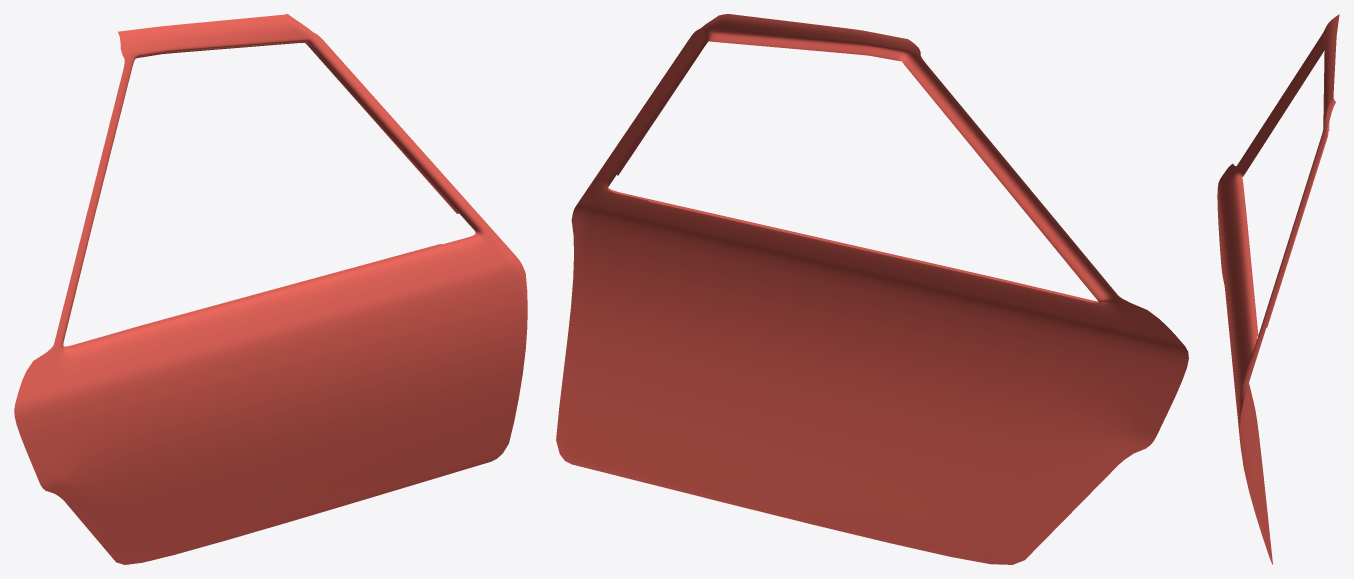
Rendered from cube.038_material.014_0_lev1.glb.
The picture shows the model from 3 angles, left to right: view 1: azimuth 30°, elevation 25°; view 2: azimuth 150°, elevation 25°; view 3: azimuth 270°, elevation 25°; orthographic projection. The views are drawn at different scales.
Parts seen in each view (by area): view 1: cube.038_material.014_0_lev1; view 2: cube.038_material.014_0_lev1; view 3: cube.038_material.014_0_lev1.
Boxes of the visible parts, <box> form: cube.038_material.014_0_lev1: <box>14,14,527,564</box>; cube.038_material.014_0_lev1: <box>556,14,1188,564</box>; cube.038_material.014_0_lev1: <box>1217,14,1339,564</box>.
Bounding box in the file's own units: 0.1755 × 0.1564 × 0.0414.
